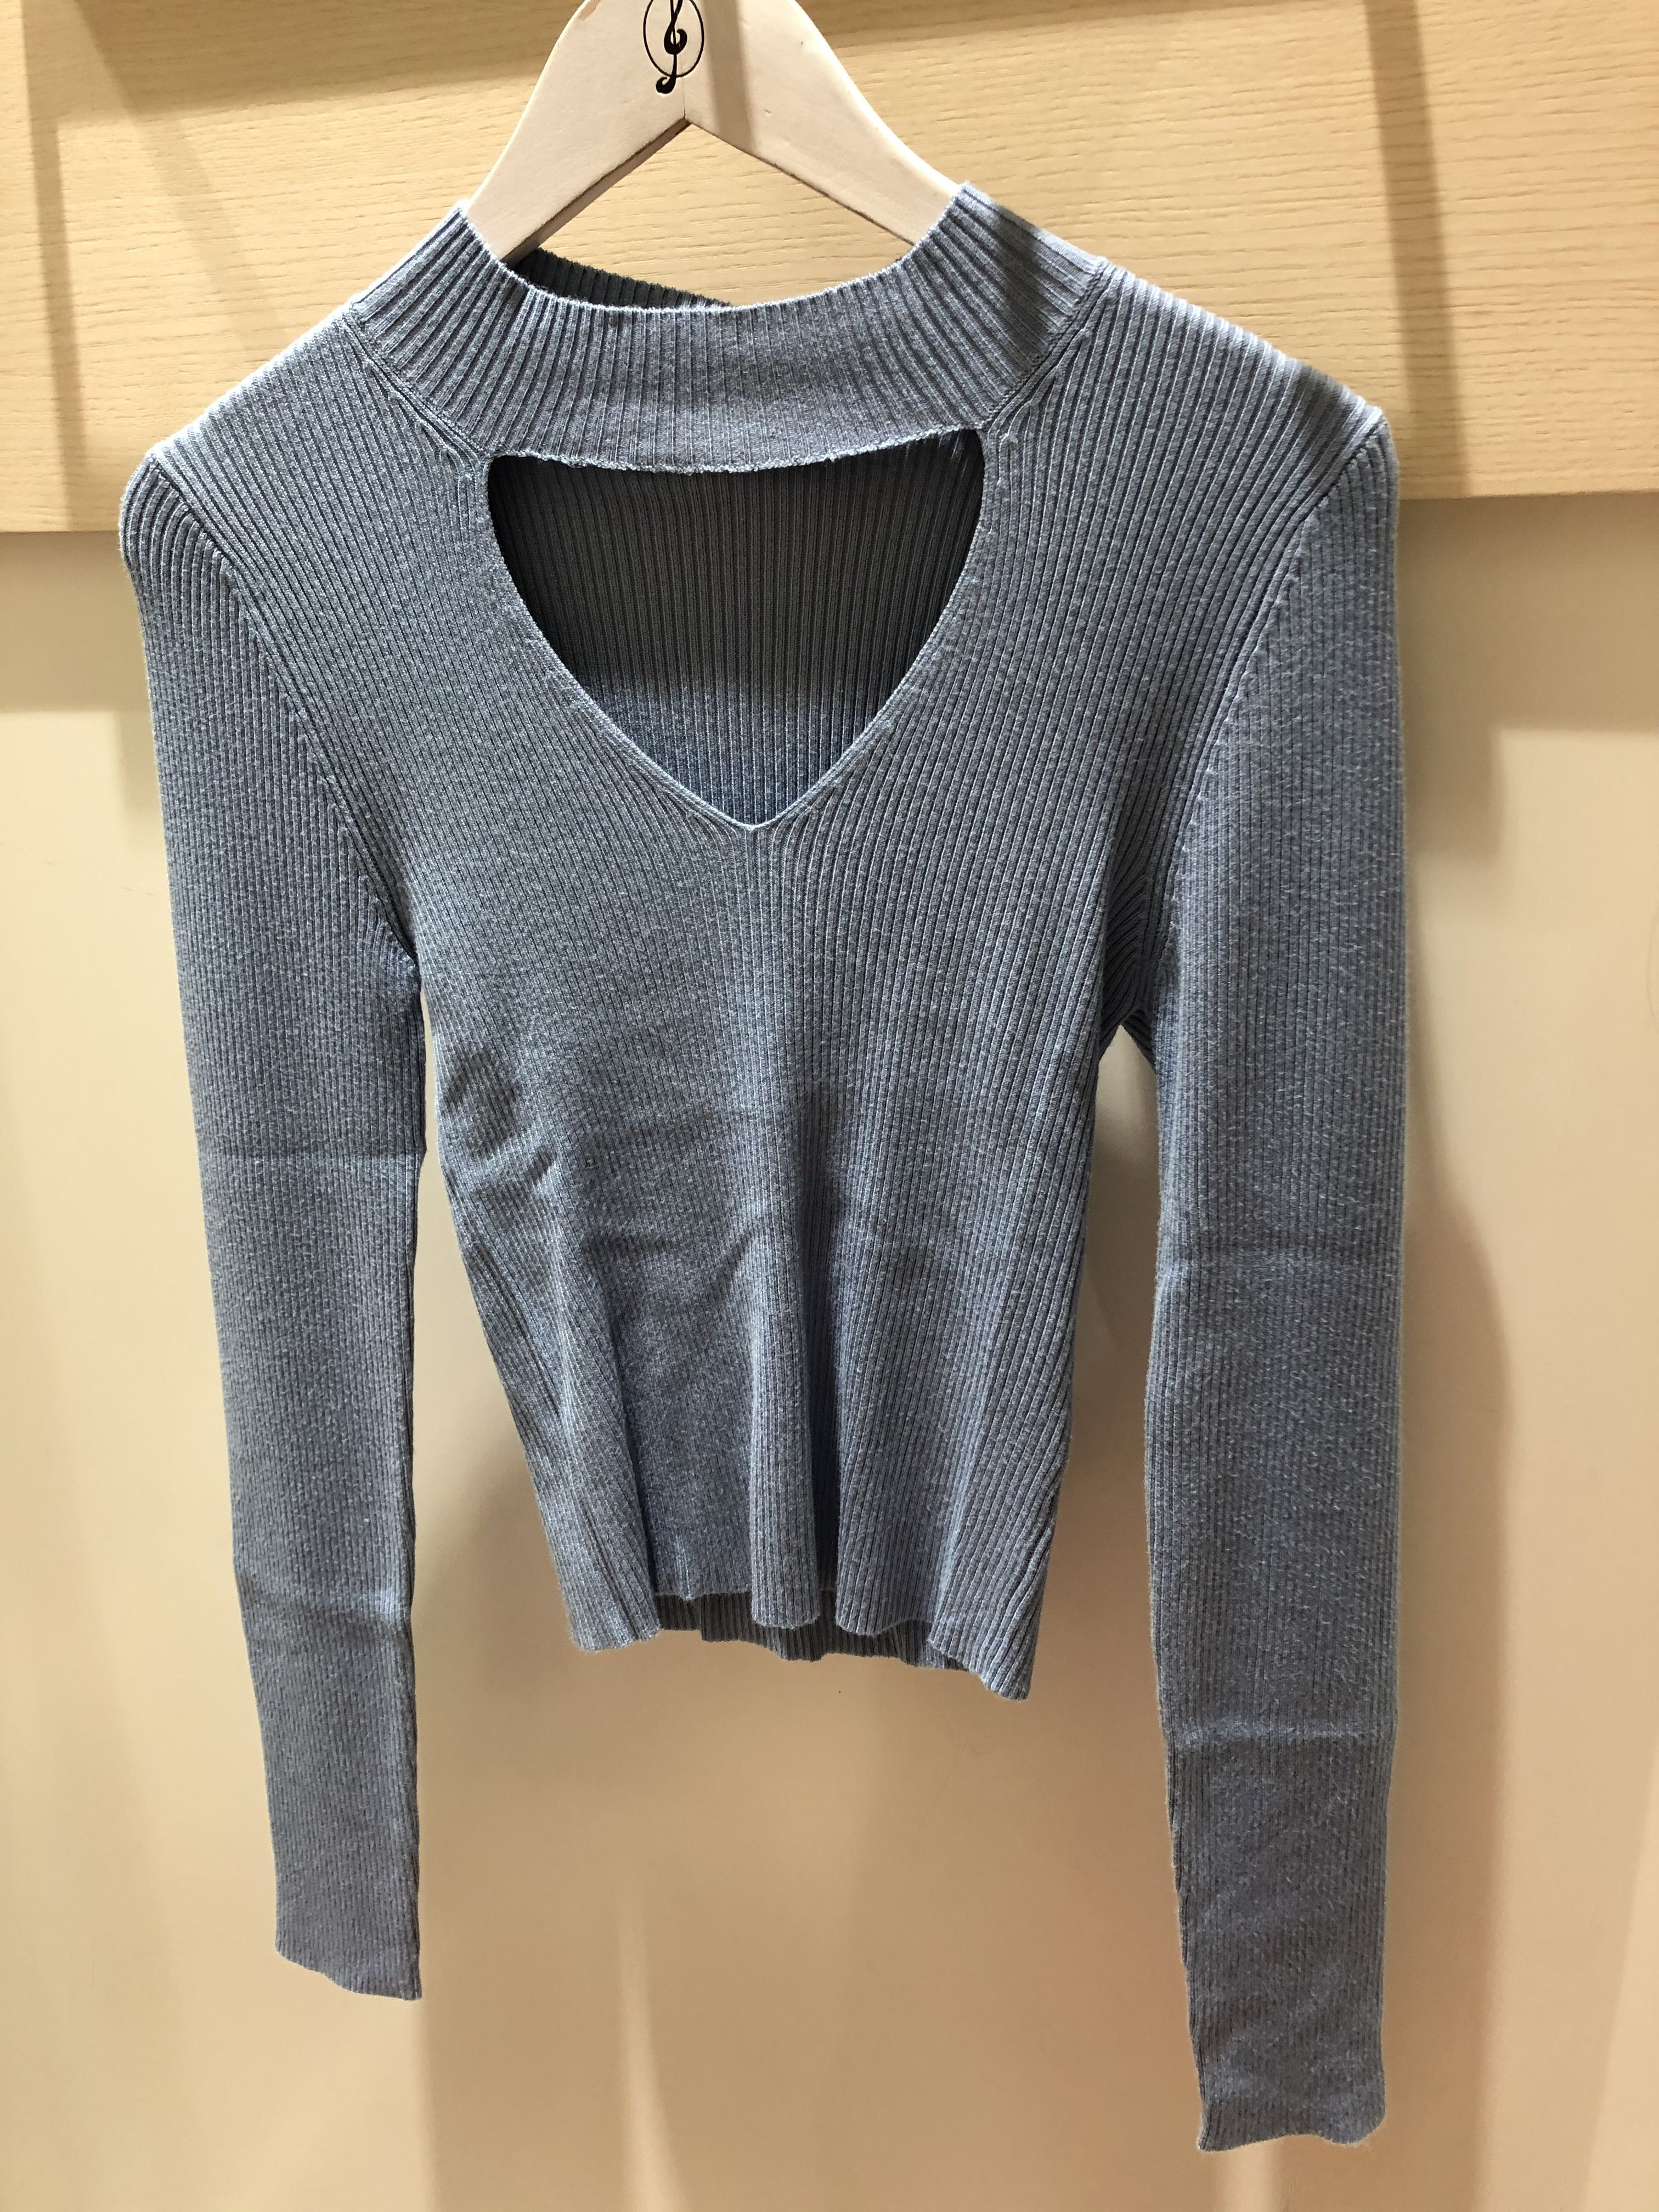clothes: (110, 202, 1413, 2158)
